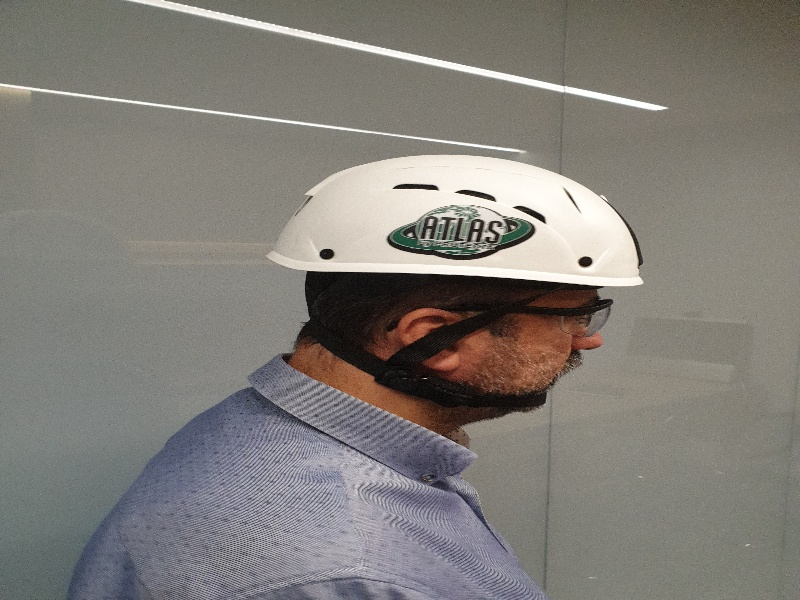Baret: (281, 147, 646, 299)
Gozluk: (486, 293, 620, 339)
